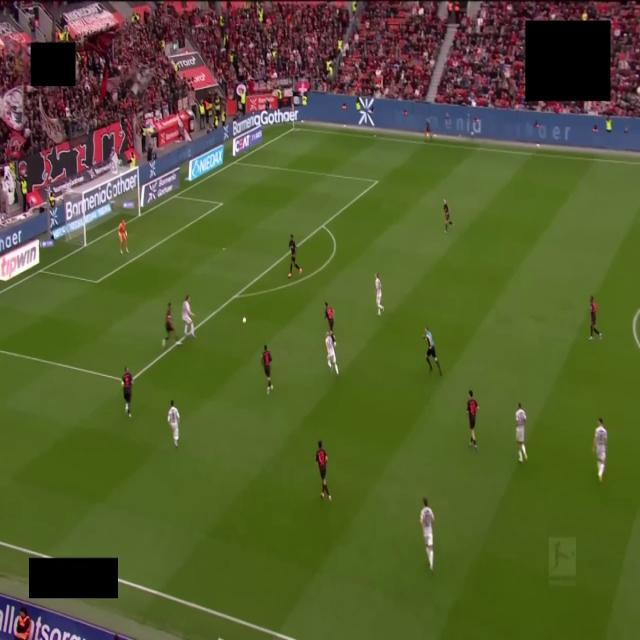ball: (242, 317, 246, 324)
player: (420, 498, 434, 571), (316, 441, 331, 502), (593, 418, 607, 481), (163, 303, 180, 346), (515, 403, 527, 463), (288, 234, 302, 278), (467, 391, 477, 450), (325, 332, 338, 375), (261, 345, 272, 394), (182, 296, 195, 337), (589, 296, 601, 340), (168, 400, 179, 447), (122, 368, 132, 417), (325, 303, 335, 345), (375, 273, 384, 315), (118, 219, 128, 254), (444, 199, 453, 232)
referee: (424, 328, 442, 375)
